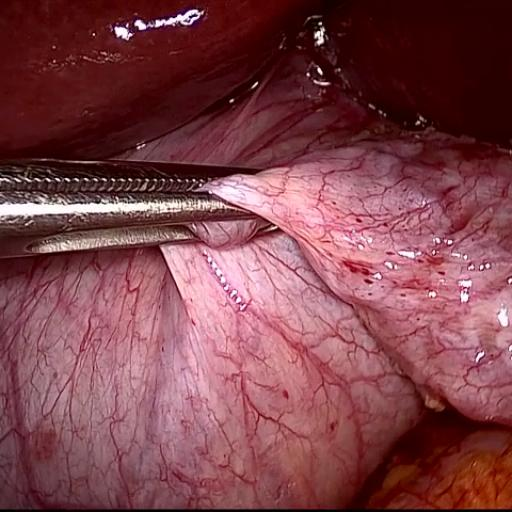Grasper: (2, 113, 298, 314)
